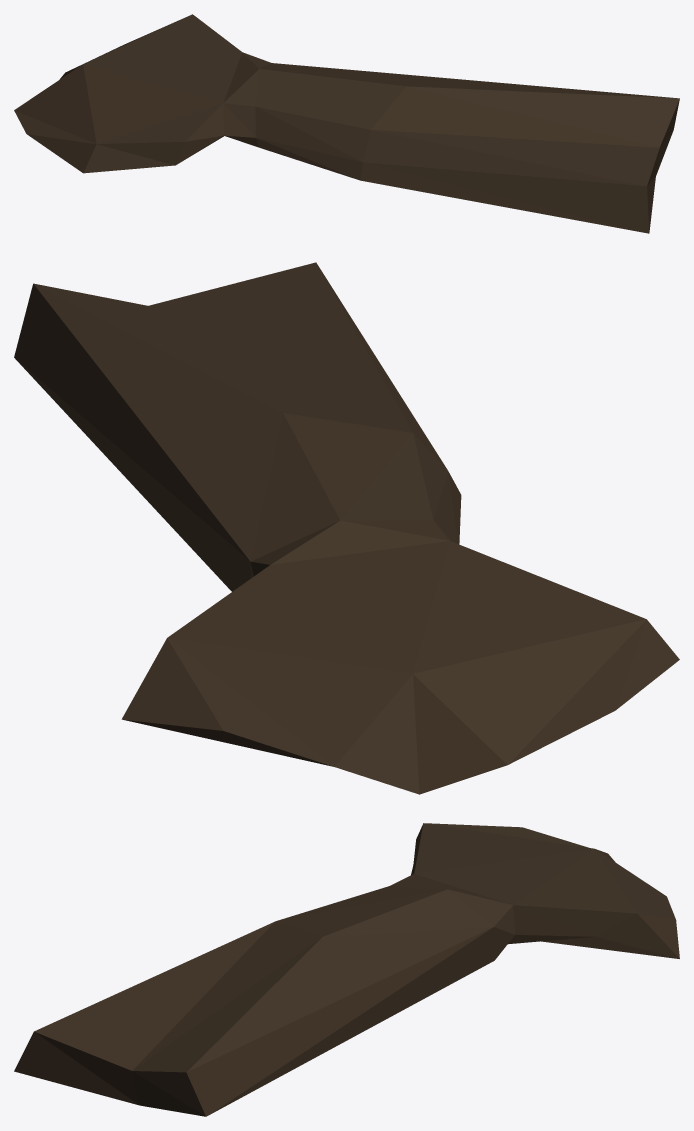
File: GURH.OBJ
3 renders of one model, top to bottom at view 1: azimuth 30°, elevation 25°; view 2: azimuth 150°, elevation 25°; view 3: azimuth 270°, elevation 25°, orthographic. The views are drawn at different scales.
Parts seen in each view (by area): view 1: GURH; view 2: GURH; view 3: GURH.
Part boxes in pixels (x1,y1,x2,y2): GURH: [14, 14, 679, 233]; GURH: [14, 262, 679, 794]; GURH: [14, 823, 679, 1116].
Bounding box in the file's own units: 0.9805 × 0.1608 × 1.01.
